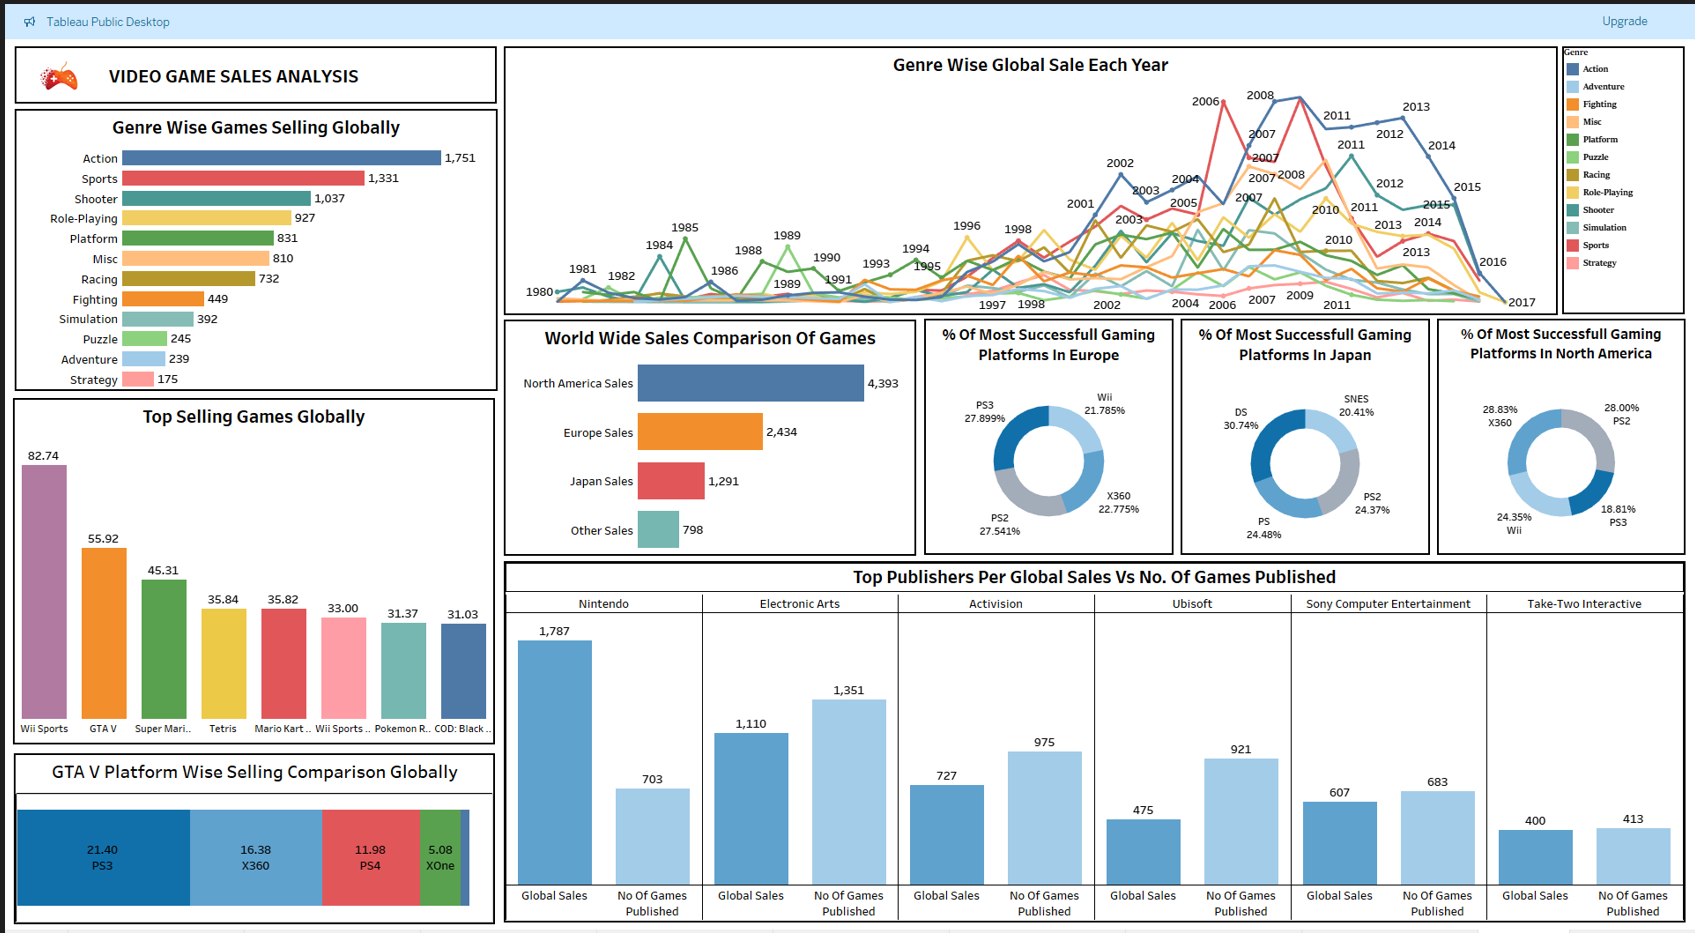

What the dashboard file says about the page in this screenshot:
{"tool":"tableau","page":{"name":"Dashboard 1","canvas":[1000,1000],"units":"permille","ordinal":0},"visuals":[{"type":"worksheet","title":"Genre Wise Global Sale Each Year","mark":"Automatic","rows":["Global Sales"],"cols":["Year"],"box":[294.7,8.1,622.8,302.1]},{"type":"legend","title":"Genre Wise Global Sale Each Year","param":"[federated.1iqhmho1vj4s0z16z03bo1u9h3eu].[none:Genre:nk]","box":[920.5,8.1,72.5,300.9]},{"type":"image","param":"C:/Users/Umar/Desktop/tableau final project/Presentation1.jpg","box":[7,10.4,57.3,60.2]},{"type":"text","box":[64.3,10.4,207,60.2]},{"type":"worksheet","title":"Genre Wise Games Selling Globally","mark":"Automatic","rows":["Genre"],"cols":["Global Sales"],"box":[5.9,78.7,285.4,317.1]},{"type":"worksheet","title":"% Of Most Successfull Gaming Platforms In Europe","mark":"Pie","rows":["Calculation_245727678460485635","Calculation_245727678460485635"],"box":[540.9,310.2,151.5,273.1]},{"type":"worksheet","title":"% Of Most Successfull Gaming Platforms In Japan","mark":"Pie","rows":["Calculation_245727678458748929","Calculation_245727678458748929"],"box":[692.4,310.2,151.5,273.1]},{"type":"worksheet","title":"% Of Most Successfull Gaming Platforms In North America","mark":"Pie","rows":["Calculation_245727678458748929","Calculation_245727678458748929"],"box":[843.9,310.2,151.5,273.1]},{"type":"worksheet","title":"World Wide Sales Comparison Of Games","mark":"Automatic","box":[294.7,314.8,243.9,265.1]},{"type":"worksheet","title":"Top Selling Games Globally","mark":"Automatic","rows":["Global Sales"],"cols":["Name"],"box":[4.7,402.8,284.8,388.9]},{"type":"worksheet","title":"Top Publishers Per Global Sales Vs No. Of Games Published","mark":"Automatic","cols":["Publisher"],"box":[294.7,585.6,698.2,406.2]},{"type":"worksheet","title":"GTA V Platform Wise Selling Comparison Globally","mark":"Automatic","rows":["Name"],"cols":["Global Sales"],"box":[5.3,802.1,284.2,192.1]}]}

Visuals, with their boxes on the dashboard's canvas, which has no fixed pixel size, in thousandths of its width and height (x1, y1, x2, y2). These are canvas units, not pixel positions in the 1695x933 screenshot, which may show the page scaled, cropped or inside an application window:
"Genre Wise Global Sale Each Year" worksheet: <region>295, 8, 918, 310</region>
"Genre Wise Global Sale Each Year" legend: <region>920, 8, 993, 309</region>
image: <region>7, 10, 64, 71</region>
text: <region>64, 10, 271, 71</region>
"Genre Wise Games Selling Globally" worksheet: <region>6, 79, 291, 396</region>
"% Of Most Successfull Gaming Platforms In Europe" worksheet (Pie marks): <region>541, 310, 692, 583</region>
"% Of Most Successfull Gaming Platforms In Japan" worksheet (Pie marks): <region>692, 310, 844, 583</region>
"% Of Most Successfull Gaming Platforms In North America" worksheet (Pie marks): <region>844, 310, 995, 583</region>
"World Wide Sales Comparison Of Games" worksheet: <region>295, 315, 539, 580</region>
"Top Selling Games Globally" worksheet: <region>5, 403, 290, 792</region>
"Top Publishers Per Global Sales Vs No. Of Games Published" worksheet: <region>295, 586, 993, 992</region>
"GTA V Platform Wise Selling Comparison Globally" worksheet: <region>5, 802, 290, 994</region>
